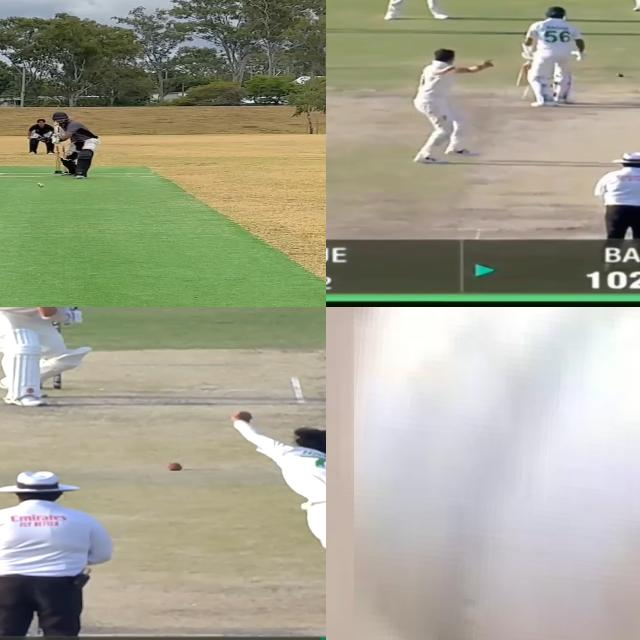Cricket ball: (354, 307, 640, 640), (166, 461, 184, 471), (35, 181, 47, 188), (615, 72, 625, 78)
Stumps: (55, 146, 69, 173)
